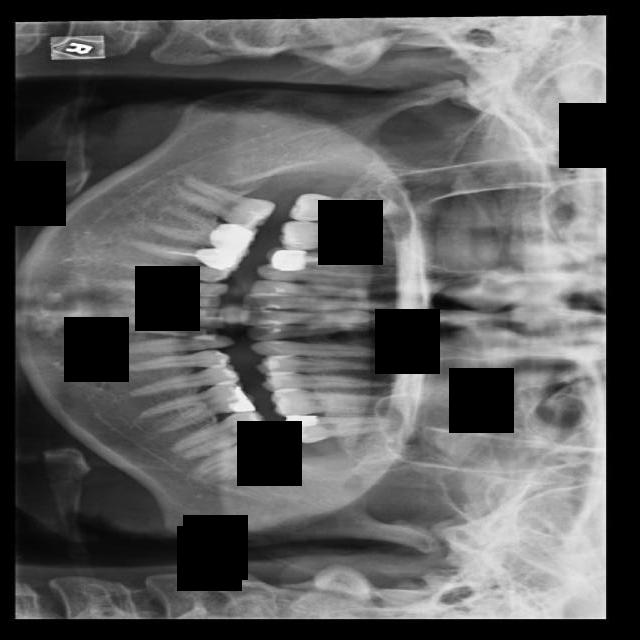52: (223, 401, 275, 452), (206, 216, 257, 258), (204, 381, 253, 412), (281, 415, 326, 444), (197, 246, 242, 274), (264, 246, 307, 272), (254, 355, 294, 378), (198, 365, 238, 388), (260, 372, 301, 392), (243, 294, 291, 310), (238, 310, 286, 326), (249, 281, 297, 296), (248, 325, 287, 341), (191, 350, 229, 366), (251, 342, 293, 355)
73: (144, 198, 225, 254), (123, 240, 206, 265), (301, 248, 386, 269), (28, 618, 40, 628)
BioHorizons Implant: (283, 415, 402, 443)
Biomet 3i Implant: (184, 434, 289, 486)
Blue Sky Bio Implant: (169, 404, 275, 464)
Caries: (290, 190, 399, 223)
Implant: (167, 171, 276, 238)
